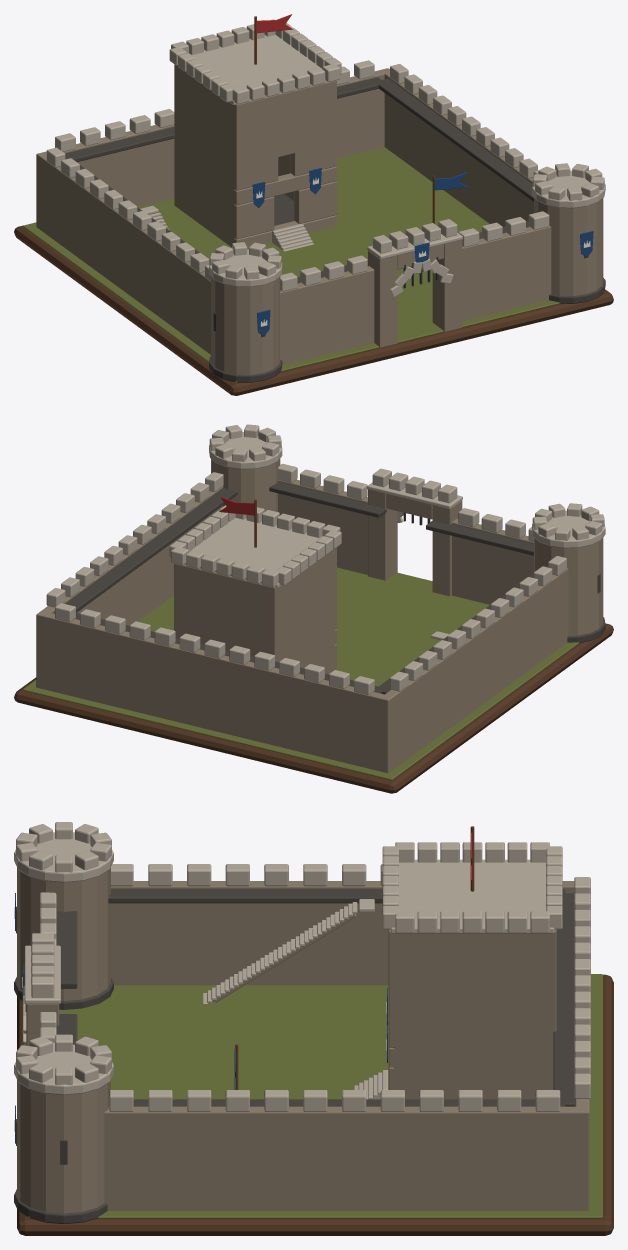
Rendered from boss-castle.v2.optimized.glb.
The picture shows the model from 3 angles, top to bottom: view 1: azimuth 30°, elevation 25°; view 2: azimuth 150°, elevation 25°; view 3: azimuth 270°, elevation 25°; orthographic projection. The views are drawn at different scales.
Parts seen in each view (by area): view 1: RB_Wall_Left, RB_Crenel_Left_00, RB_CourtyardFloor, RB_Base, RB_Walk_Left, PAINT_Banner_Gate; view 2: RB_Wall_Left, RB_Crenel_Left_00, RB_CourtyardFloor, RB_Base, RB_Walk_Left; view 3: RB_Wall_Left, RB_Crenel_Left_00, RB_CourtyardFloor, RB_Base, RB_Walk_Left.
Boxes of the visible parts, bbox=[...] form: RB_Wall_Left: bbox=[36, 64, 603, 374]; RB_Crenel_Left_00: bbox=[46, 19, 605, 297]; RB_CourtyardFloor: bbox=[23, 147, 604, 382]; RB_Base: bbox=[14, 225, 613, 395]; RB_Walk_Left: bbox=[65, 77, 605, 382]; PAINT_Banner_Gate: bbox=[252, 167, 593, 336]; RB_Wall_Left: bbox=[36, 459, 603, 773]; RB_Crenel_Left_00: bbox=[46, 424, 605, 694]; RB_CourtyardFloor: bbox=[23, 567, 578, 780]; RB_Base: bbox=[14, 623, 613, 793]; RB_Walk_Left: bbox=[54, 481, 605, 694]; RB_Wall_Left: bbox=[17, 867, 589, 1213]; RB_Crenel_Left_00: bbox=[14, 822, 590, 1111]; RB_CourtyardFloor: bbox=[28, 974, 602, 1218]; RB_Base: bbox=[17, 974, 613, 1235]; RB_Walk_Left: bbox=[14, 889, 575, 1224].
Size of the model in its own units: 38.36 by 20.1 by 38.18.
